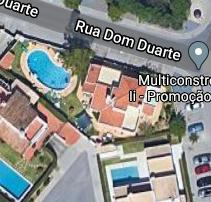pool: (25, 48, 72, 90), (0, 148, 33, 202), (110, 165, 142, 188)
